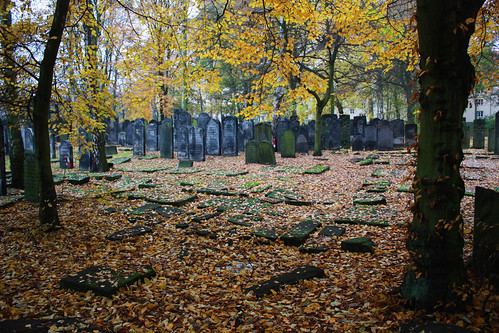grave: (245, 138, 278, 166), (220, 113, 237, 156), (238, 113, 255, 156), (274, 112, 291, 155), (323, 110, 340, 153), (353, 109, 370, 152), (130, 120, 145, 158), (144, 118, 159, 156), (158, 118, 173, 156), (206, 118, 221, 156), (378, 118, 395, 151)
vegetation: (22, 1, 499, 114)
